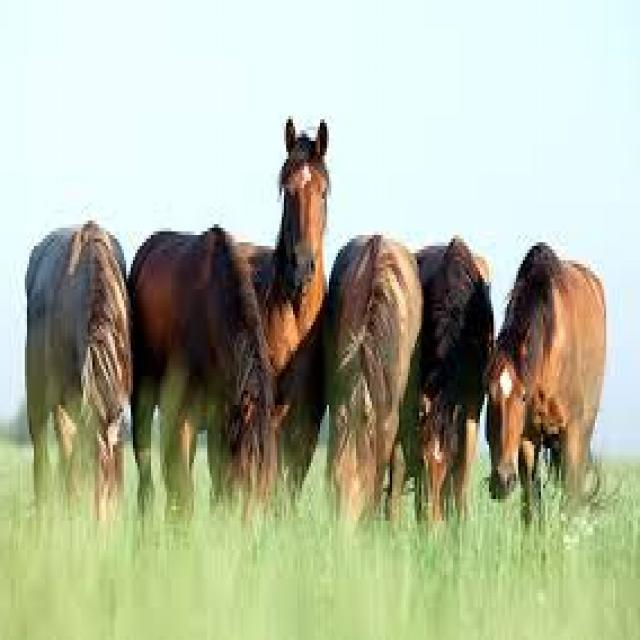horse: (128, 246, 270, 556), (20, 206, 131, 581), (244, 109, 340, 532), (478, 236, 608, 534), (402, 241, 488, 588), (324, 232, 401, 578)
